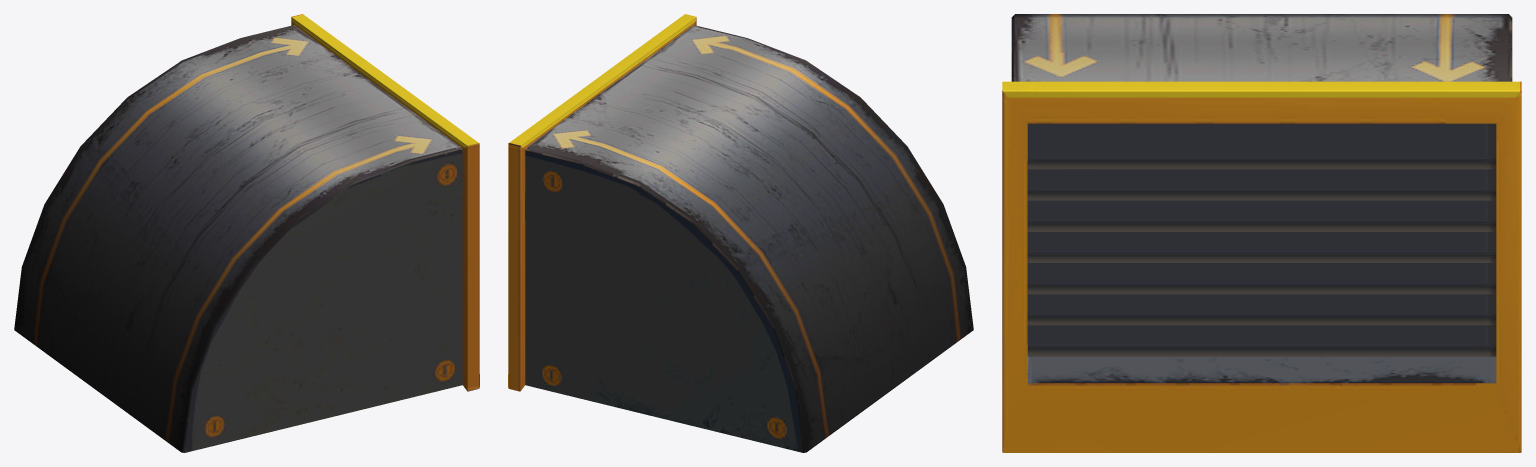
File: S_wind_device.fbx
3 renders of one model, left to right at view 1: azimuth 30°, elevation 25°; view 2: azimuth 150°, elevation 25°; view 3: azimuth 270°, elevation 25°, orthographic. The views are drawn at different scales.
Visible parts, largest first — view 1: S_wind_device; view 2: S_wind_device; view 3: S_wind_device.
Part boxes in pixels (<box>): S_wind_device: <box>14,14,479,452</box>; S_wind_device: <box>508,14,973,452</box>; S_wind_device: <box>1002,14,1521,452</box>.
Bounding box in the file's own units: 0.7681 × 0.6136 × 0.7975.
1 material, 1 textured.
